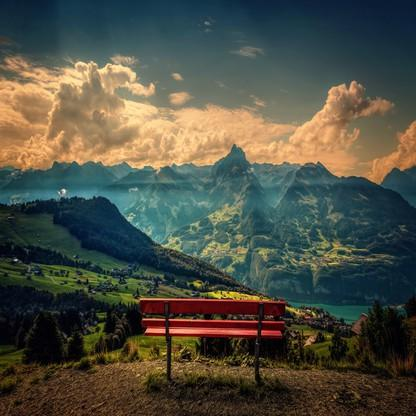obstacle: (128, 288, 299, 382)
